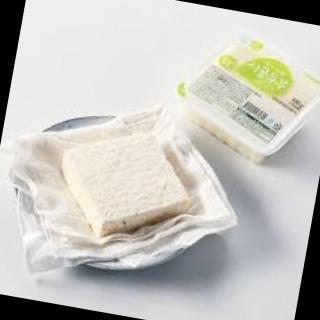Tahu: (43, 119, 209, 250)
